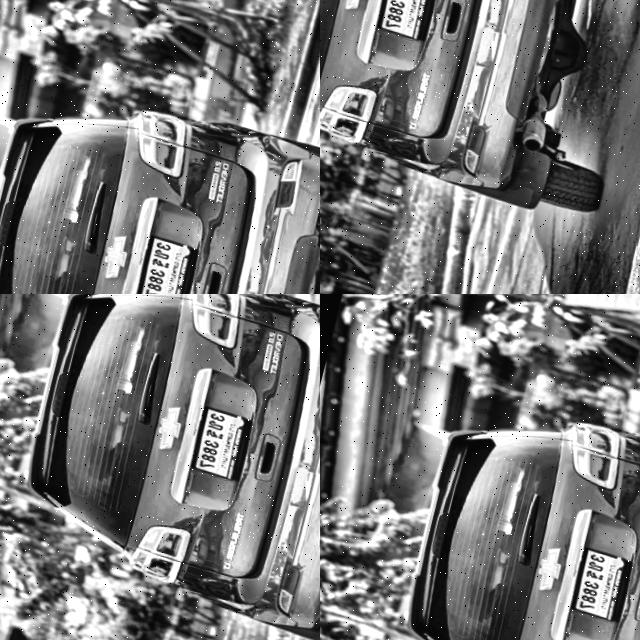license-plate: (568, 539, 631, 620), (249, 228, 320, 294)
